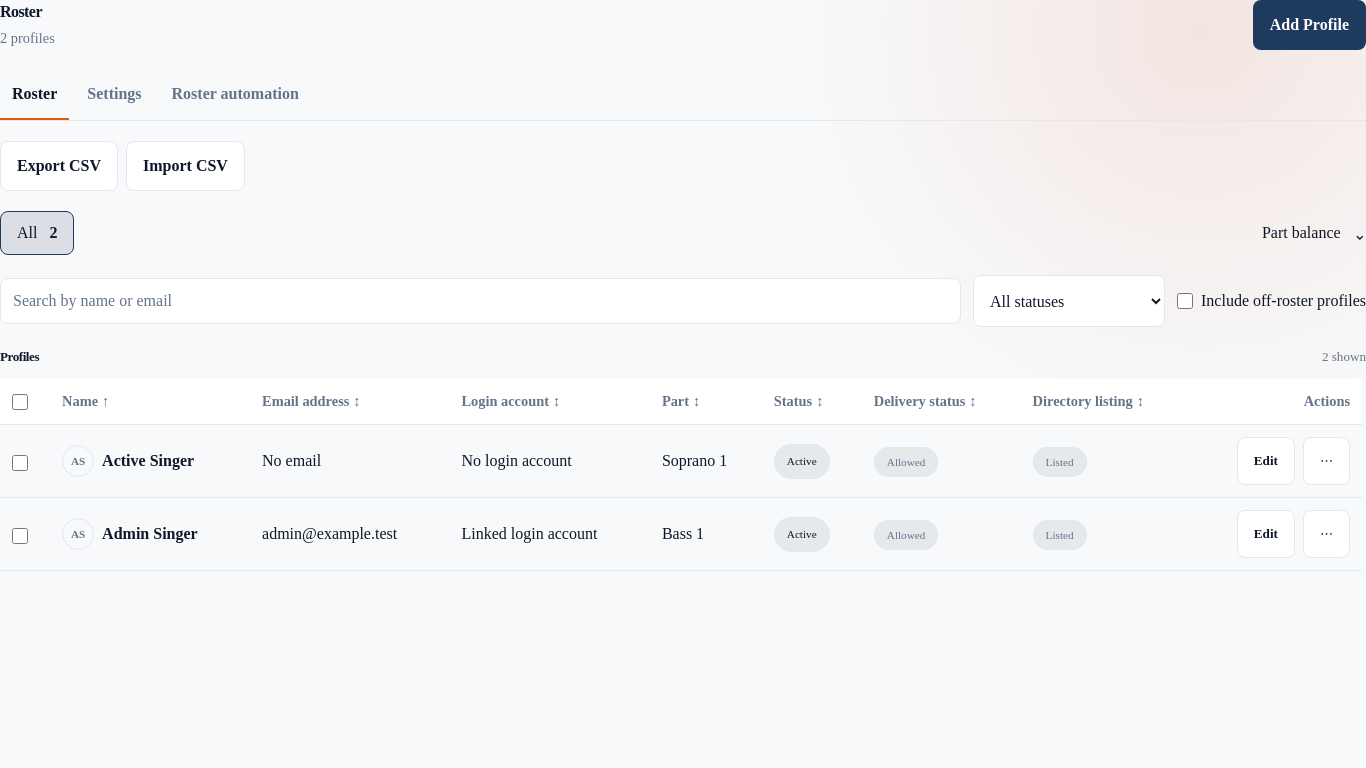
Test: RosterPage Safe Profile Removal (#169) › displays error message if deletion is rejected due to historical dependencies
Click the button named "More actions for Active Singer" at (1326, 461), box [1303,437,1350,485]
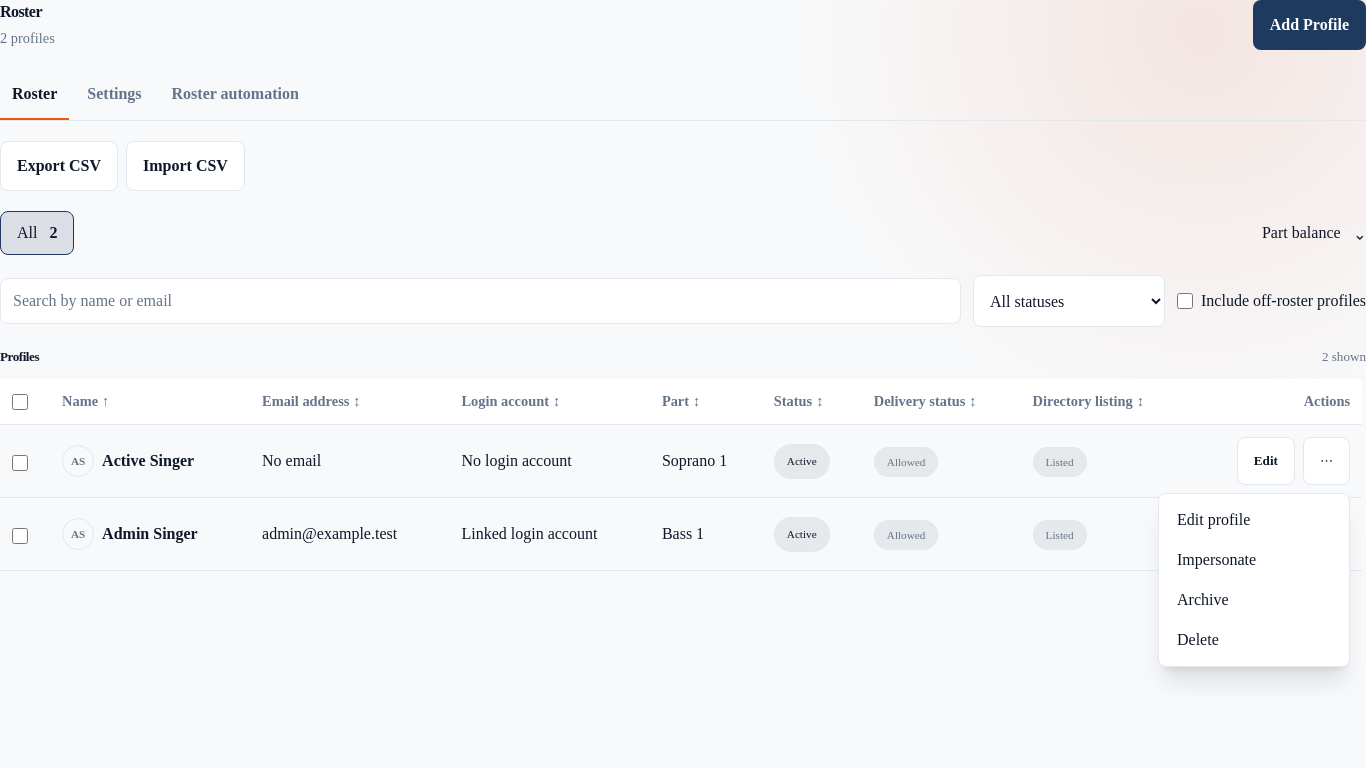
Click the menu item "Delete" at (1254, 640), box [1165,620,1343,660]
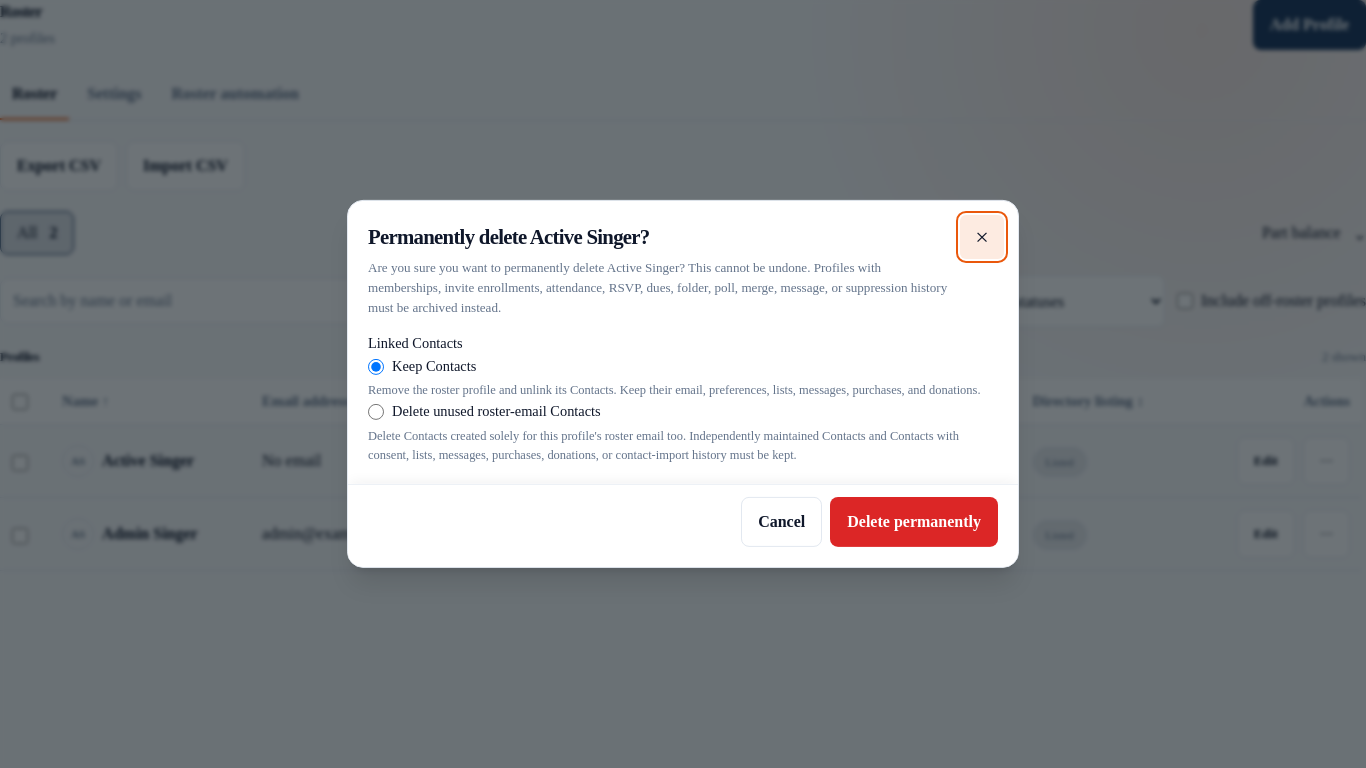
Click the button "Delete permanently" at (914, 522), box [830,497,998,547]
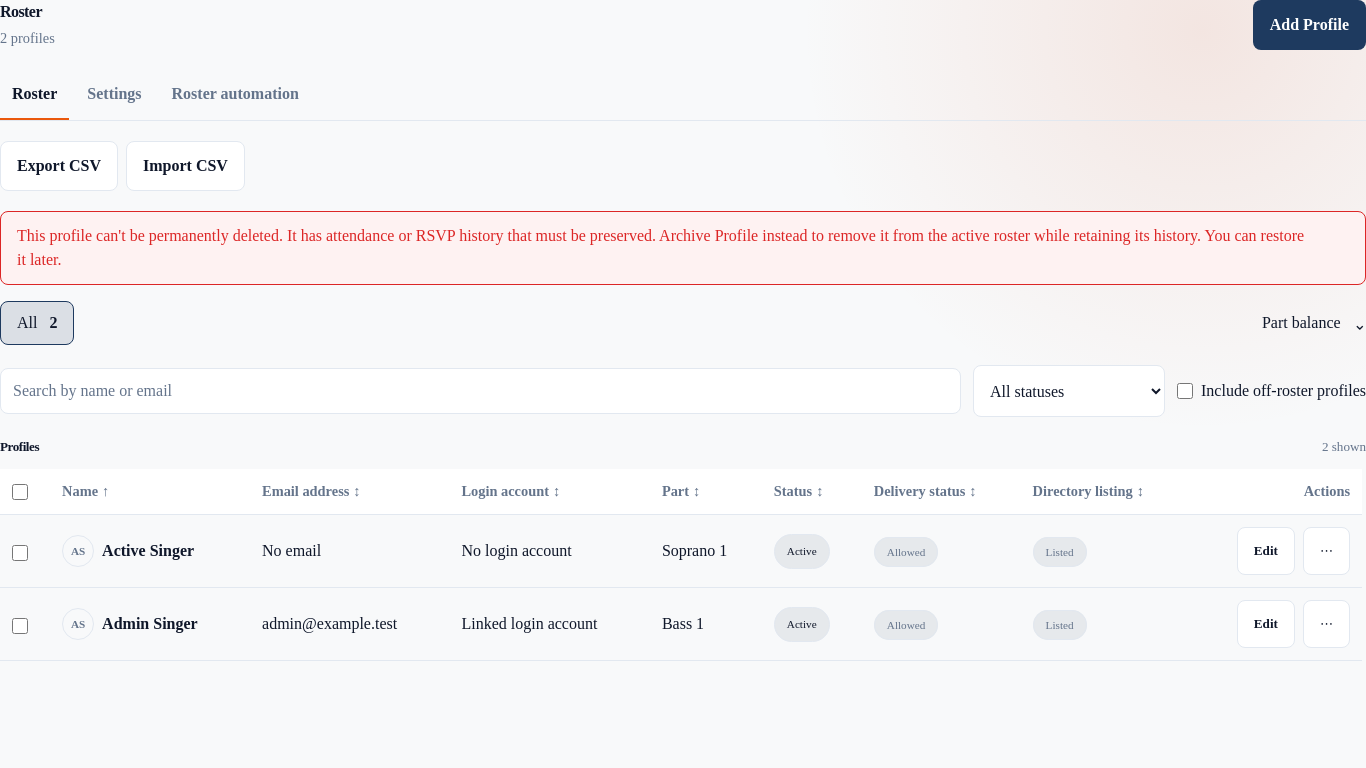
Now the text "This profile can't be permanently deleted. It has attendance or RSVP history that must be preserved. Archive Profile ins" is shown, box [17,227,1304,268]
